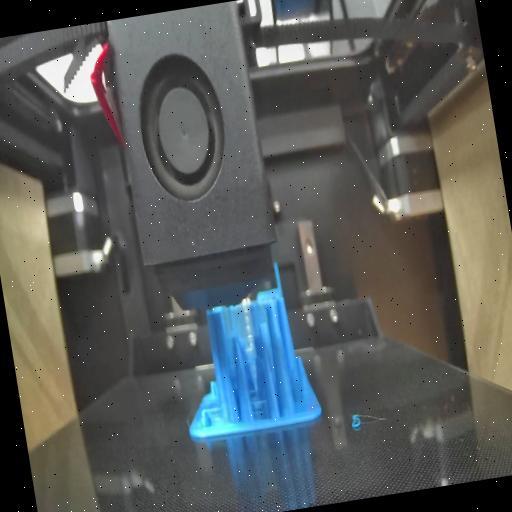stringing: (220, 299, 270, 342), (250, 388, 268, 422), (198, 402, 222, 417)
